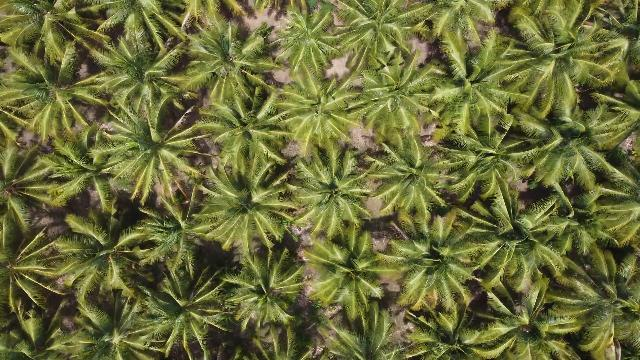trees: (498, 5, 632, 118), (94, 95, 219, 209), (508, 100, 636, 206), (454, 185, 574, 297), (4, 42, 114, 150), (192, 155, 302, 259), (44, 211, 154, 307), (380, 218, 483, 320), (546, 252, 639, 359), (174, 13, 285, 102), (432, 117, 532, 215), (135, 263, 237, 359), (271, 68, 371, 165), (193, 80, 292, 177), (88, 19, 190, 112), (303, 227, 398, 324), (365, 134, 457, 233), (348, 51, 440, 147), (289, 144, 375, 244), (5, 2, 116, 76), (220, 248, 308, 338), (337, 2, 433, 76), (269, 6, 347, 81), (4, 290, 77, 360), (94, 2, 181, 56), (413, 2, 495, 52), (2, 137, 52, 215), (461, 31, 518, 87), (173, 2, 241, 36)
